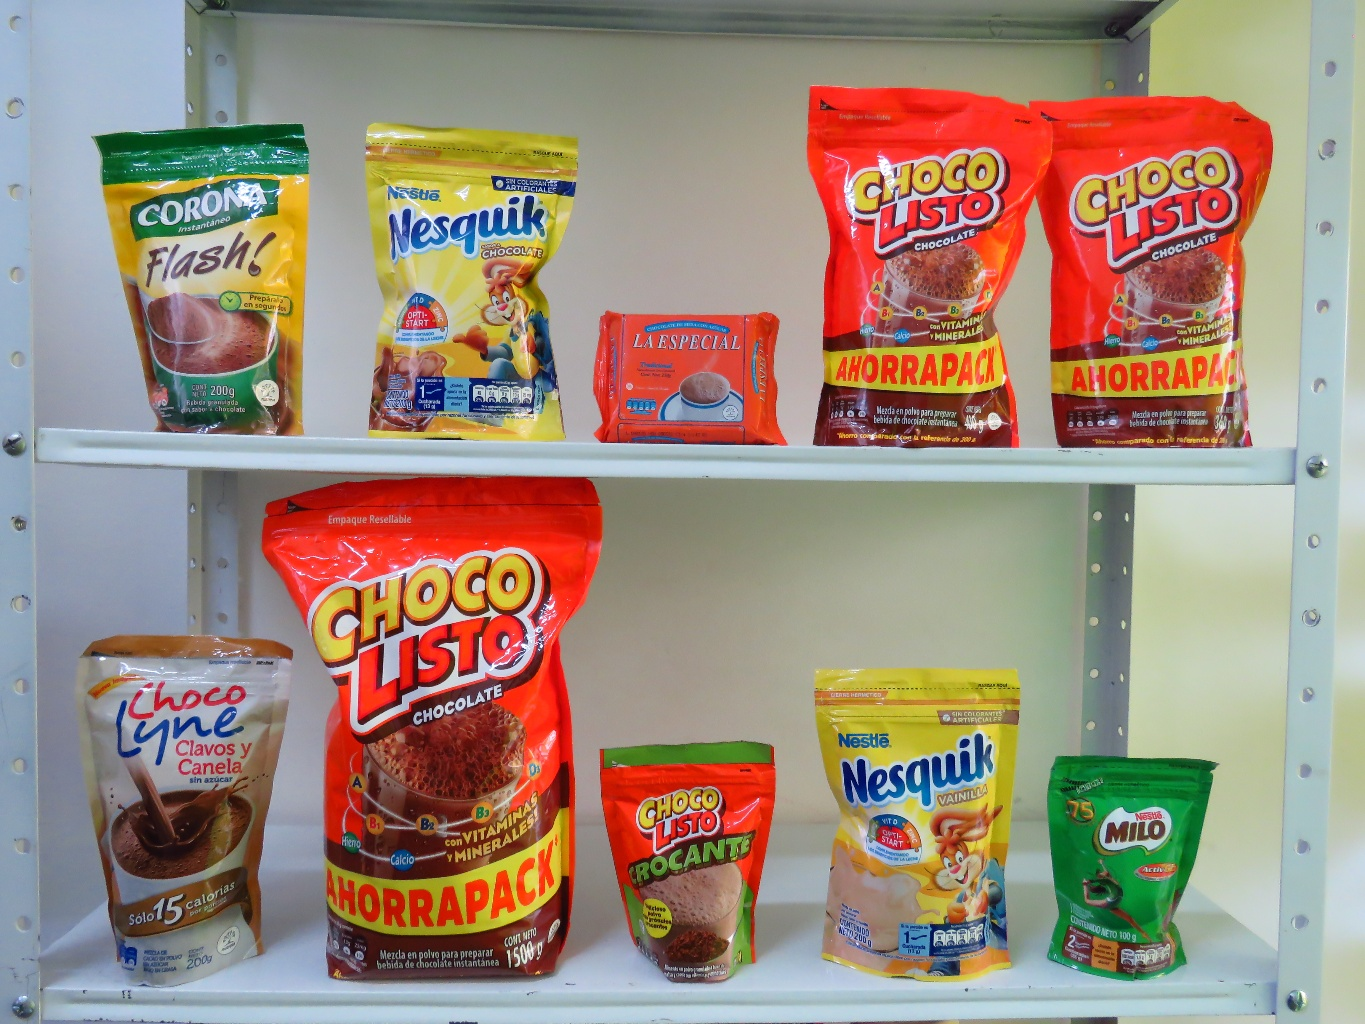COL0170102DYP10000: (579, 724, 783, 996)
COL0170103DYP1,500: (234, 463, 635, 998)
COL0170103DYP36000: (1009, 80, 1303, 466)
COL0170103DYP40000: (798, 75, 1056, 451)
COL0170203DYP10000: (1027, 742, 1242, 983)
COL0170303DYP20000: (317, 111, 620, 447)
COL0170306DYP20000: (792, 650, 1050, 989)
